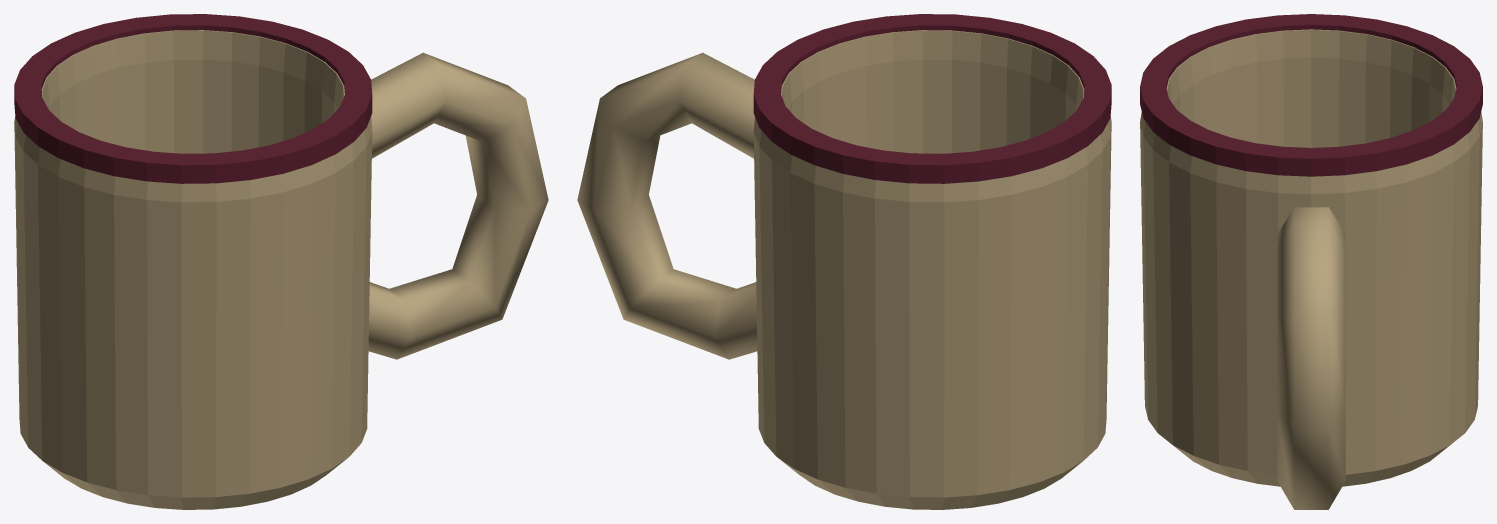
The model's file is StonewareMug.glb.
3 renders of one model, left to right at view 1: azimuth 30°, elevation 25°; view 2: azimuth 150°, elevation 25°; view 3: azimuth 270°, elevation 25°, orthographic. The views are drawn at different scales.
Visible parts, largest first — view 1: HollowMug, MugHandle, DarkRim; view 2: HollowMug, MugHandle, DarkRim; view 3: HollowMug, MugHandle, DarkRim.
Part boxes in pixels (x1,y1,x2,y2): HollowMug: [14, 30, 372, 509]; MugHandle: [368, 52, 548, 359]; DarkRim: [14, 14, 372, 183]; HollowMug: [753, 30, 1111, 509]; MugHandle: [577, 52, 757, 359]; DarkRim: [753, 14, 1111, 183]; HollowMug: [1140, 29, 1482, 486]; MugHandle: [1277, 207, 1345, 509]; DarkRim: [1140, 14, 1482, 176].
Size of the model in its own units: 1.13 by 0.77 by 0.7.
